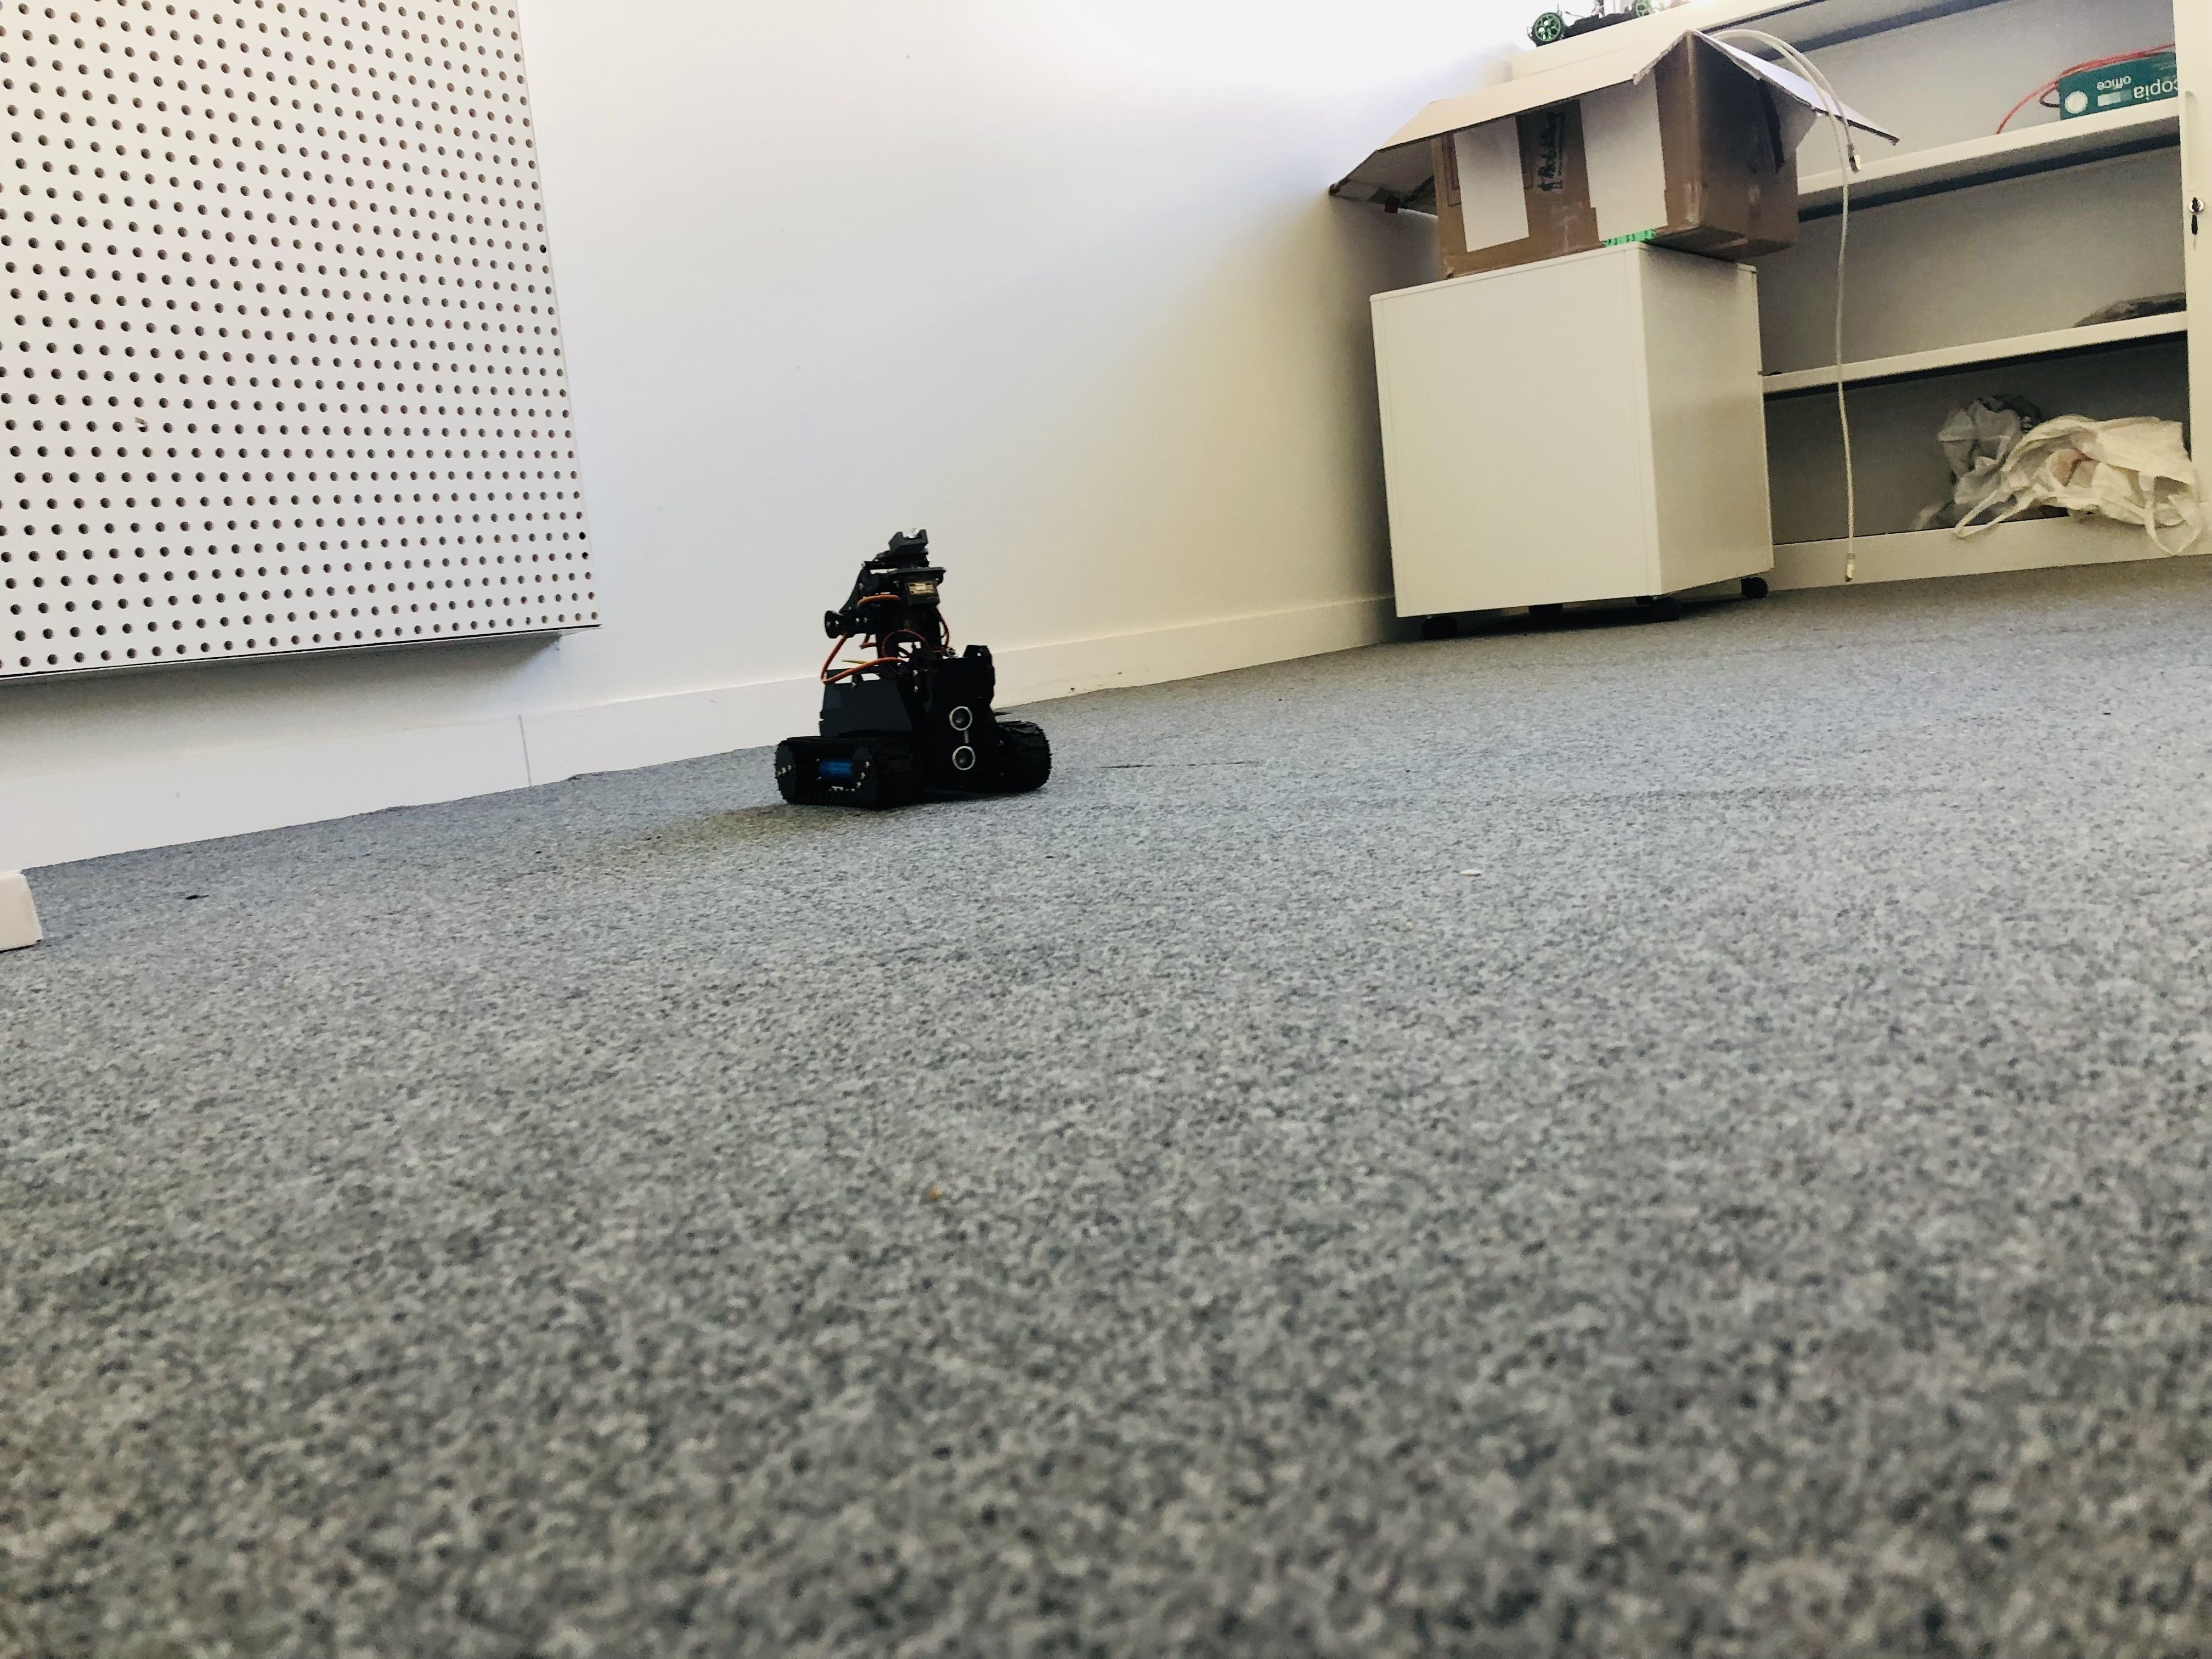rasptank: (772, 521, 1054, 812)
